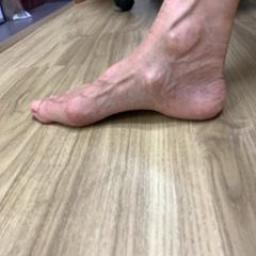Medial View -Right Foot-: (12, 13, 250, 141)
